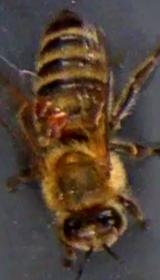varroa_mite: (37, 100, 74, 146)
